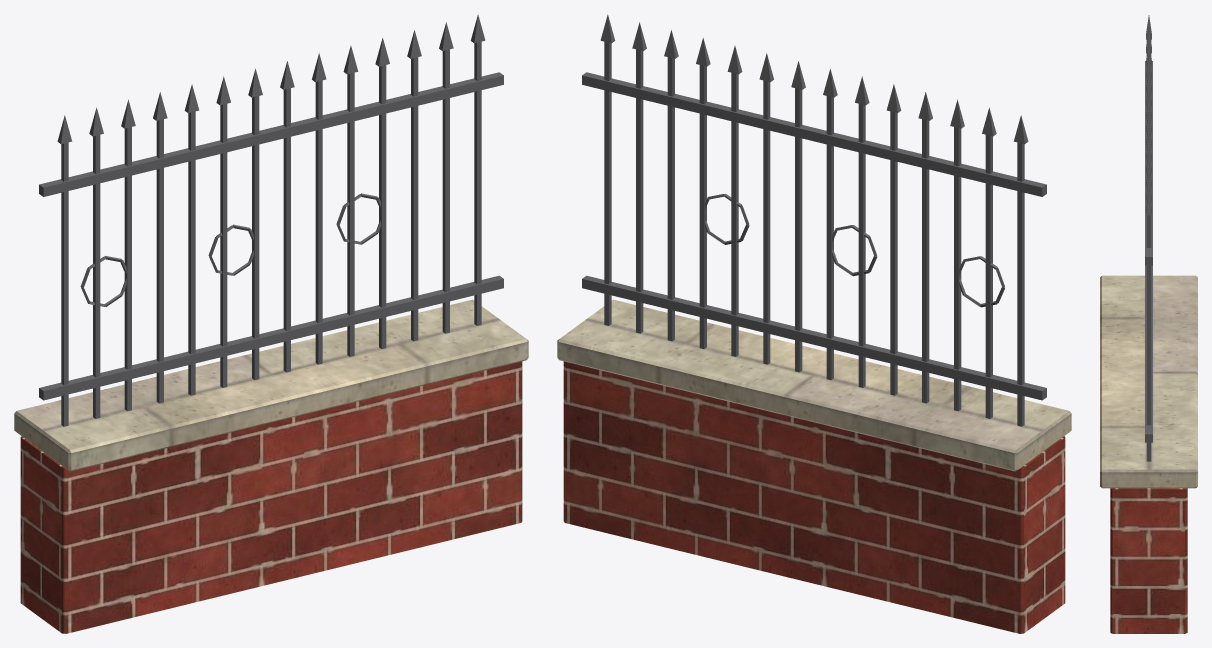
The model's file is fence_180.glb.
The picture shows the model from 3 angles, left to right: view 1: azimuth 30°, elevation 25°; view 2: azimuth 150°, elevation 25°; view 3: azimuth 270°, elevation 25°; orthographic projection. The views are drawn at different scales.
Visible parts, largest first — view 1: fence_180_brick, fence_180_iron, fence_180_stone_t; view 2: fence_180_brick, fence_180_iron, fence_180_stone_t; view 3: fence_180_stone_t, fence_180_brick, fence_180_iron.
Boxes of the visible parts, x1,y1,x2,y2 form: fence_180_brick: (20,361,522,633); fence_180_iron: (39,14,503,426); fence_180_stone_t: (14,299,528,471); fence_180_brick: (563,361,1065,633); fence_180_iron: (582,14,1046,426); fence_180_stone_t: (557,299,1071,471); fence_180_stone_t: (1100,275,1197,488); fence_180_brick: (1110,488,1187,633); fence_180_iron: (1145,15,1152,461).
Bounding box in the file's own units: 1.8 × 1.86 × 0.38.
Materials: 3 (2 with a texture image).
